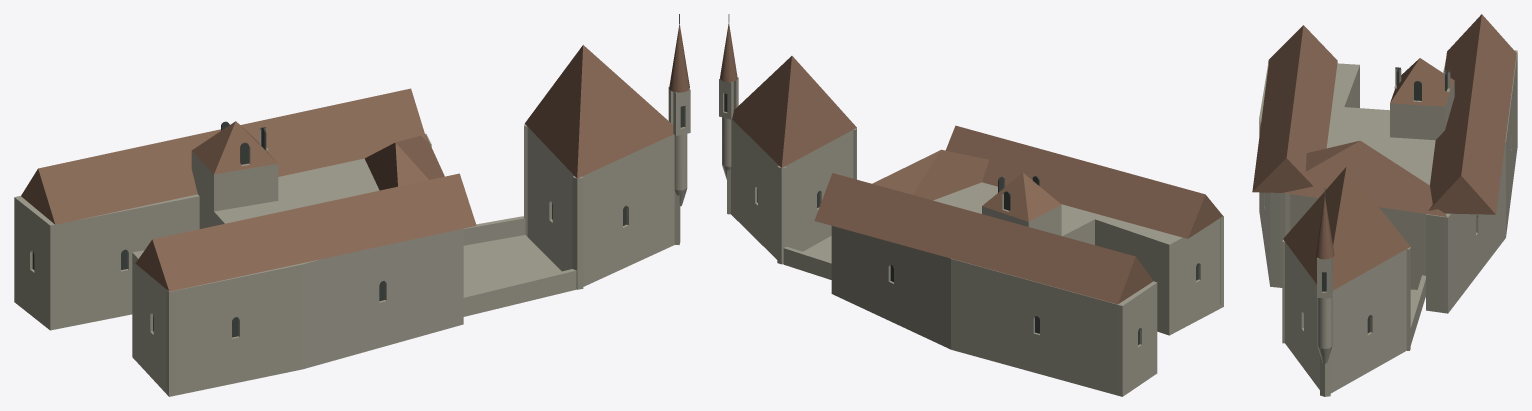
File: palais-de-l-isle-annecy-far.glb
The picture shows the model from 3 angles, left to right: view 1: azimuth 30°, elevation 25°; view 2: azimuth 150°, elevation 25°; view 3: azimuth 270°, elevation 25°; orthographic projection. The views are drawn at different scales.
Visible parts, largest first — view 1: palais-de-l-isle-annecy-0-stone, palais-de-l-isle-annecy-0-roof, palais-de-l-isle-annecy-0-glass; view 2: palais-de-l-isle-annecy-0-stone, palais-de-l-isle-annecy-0-roof, palais-de-l-isle-annecy-0-glass; view 3: palais-de-l-isle-annecy-0-roof, palais-de-l-isle-annecy-0-stone, palais-de-l-isle-annecy-0-glass.
Boxes of the visible parts, box(x1,y1,x2,y2) form: palais-de-l-isle-annecy-0-stone: box(14, 87, 690, 396); palais-de-l-isle-annecy-0-roof: box(21, 24, 689, 291); palais-de-l-isle-annecy-0-glass: box(32, 106, 684, 337); palais-de-l-isle-annecy-0-stone: box(719, 77, 1223, 396); palais-de-l-isle-annecy-0-roof: box(720, 23, 1222, 304); palais-de-l-isle-annecy-0-glass: box(724, 93, 1198, 344); palais-de-l-isle-annecy-0-roof: box(1252, 14, 1516, 290); palais-de-l-isle-annecy-0-stone: box(1259, 49, 1517, 396); palais-de-l-isle-annecy-0-glass: box(1322, 67, 1447, 333).
Bounding box in the file's own units: 48.4 × 18.5 × 21.28.
